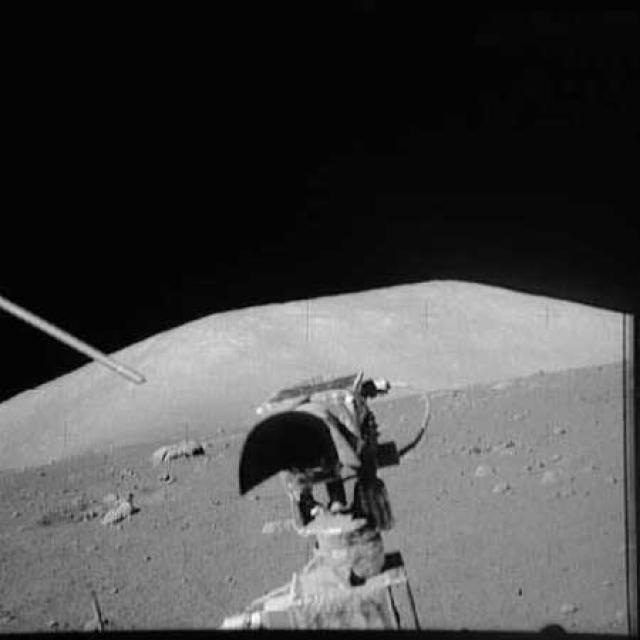artifact: (216, 358, 441, 638), (0, 291, 153, 398)
crater: (33, 489, 99, 528)
rock: (144, 428, 204, 467), (98, 481, 137, 529), (532, 459, 574, 494), (463, 459, 501, 482), (482, 476, 516, 500)
